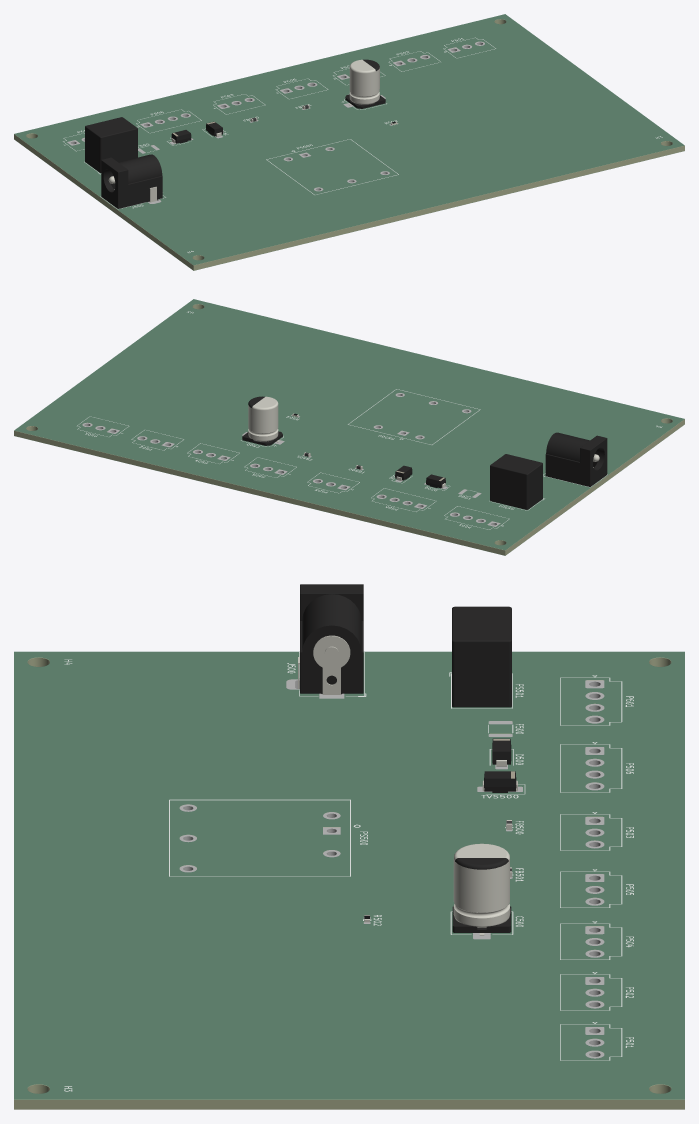
The model's file is power-backplane.glb.
The picture shows the model from 3 angles, top to bottom: view 1: azimuth 30°, elevation 25°; view 2: azimuth 150°, elevation 25°; view 3: azimuth 270°, elevation 25°; orthographic projection. The views are drawn at different scales.
Parts seen in each view (by area): view 1: =>[0:1:1:18], =>[0:1:1:16], =>[0:1:1:7], =>[0:1:1:3], =>[0:1:1:5], =>[0:1:1:15], =>[0:1:1:14]; view 2: =>[0:1:1:18], =>[0:1:1:16], =>[0:1:1:7], =>[0:1:1:3], =>[0:1:1:15], =>[0:1:1:5], =>[0:1:1:14]; view 3: =>[0:1:1:18], =>[0:1:1:16], =>[0:1:1:7], =>[0:1:1:3], =>[0:1:1:5], =>[0:1:1:14], =>[0:1:1:15].
Part boxes in pixels (x1,y1,x2,y2): =>[0:1:1:18]: (14,15,684,270); =>[0:1:1:16]: (14,14,684,265); =>[0:1:1:7]: (101,154,162,208); =>[0:1:1:3]: (85,117,137,172); =>[0:1:1:5]: (345,59,385,108); =>[0:1:1:15]: (63,37,662,252); =>[0:1:1:14]: (67,41,484,203); =>[0:1:1:18]: (14,300,684,555); =>[0:1:1:16]: (14,299,684,550); =>[0:1:1:7]: (545,432,607,486); =>[0:1:1:3]: (490,454,542,509); =>[0:1:1:15]: (77,311,662,529); =>[0:1:1:5]: (242,396,282,445); =>[0:1:1:14]: (82,393,500,526); =>[0:1:1:18]: (14,652,684,1109); =>[0:1:1:16]: (14,651,684,1099); =>[0:1:1:7]: (298,584,363,694); =>[0:1:1:3]: (452,606,511,707); =>[0:1:1:5]: (452,843,511,935); =>[0:1:1:14]: (179,679,604,1058); =>[0:1:1:15]: (64,652,633,1091).
Bounding box in the file's own units: 0.15 × 0.0147 × 0.095.
